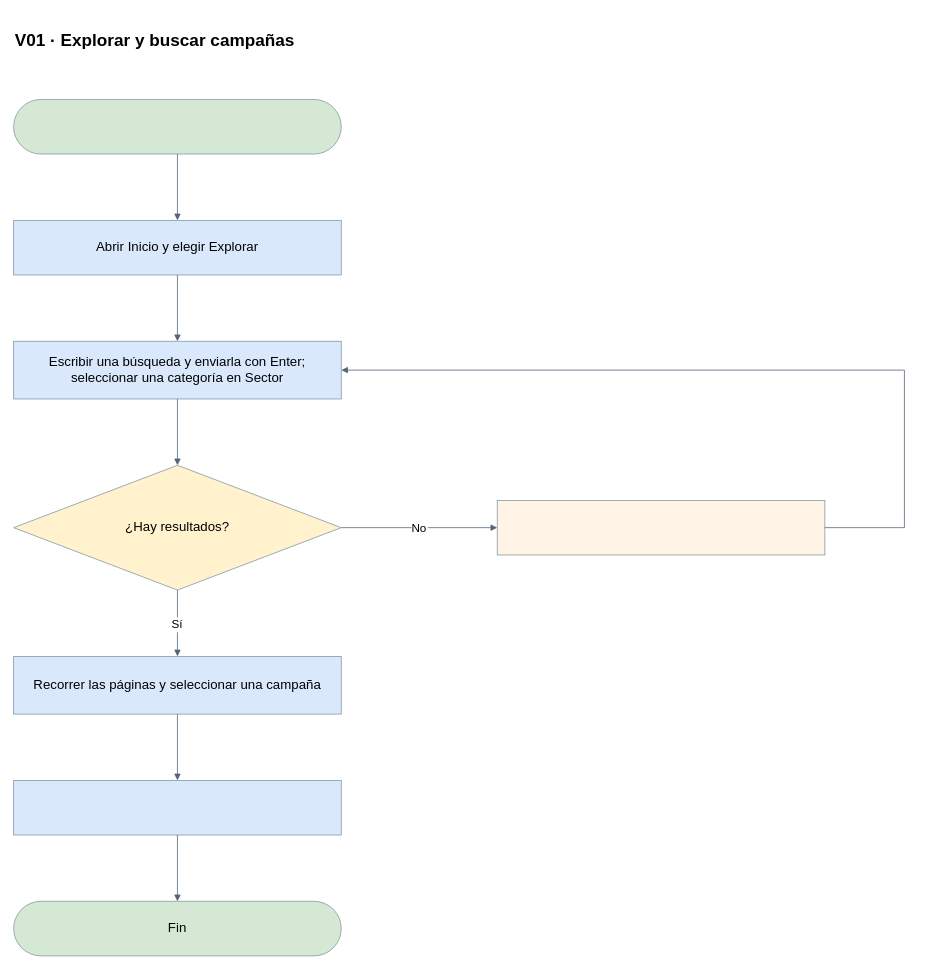
This 948x970 diagram has some shape labels left out. Here are the shapes that lost their labels. From the top down, the box of each, then its label:
(13, 99, 341, 154): Inicio
(496, 500, 825, 555): Cambiar o limpiar los filtros
(13, 780, 341, 835): Continuar en V02: consultar la campaña
